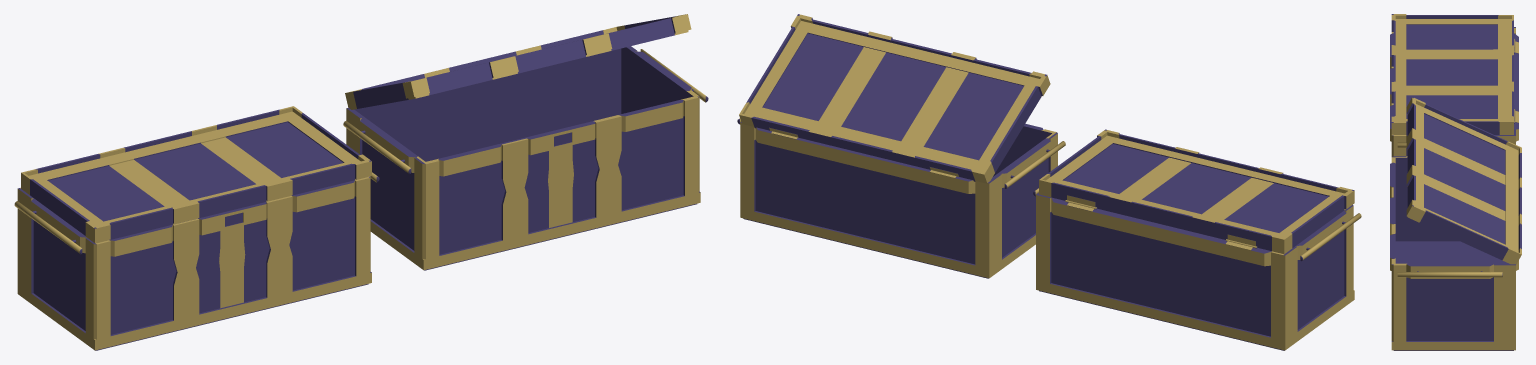
File: chest.fbx
3 views of the same model, side by side, from view 1: azimuth 30°, elevation 25°; view 2: azimuth 150°, elevation 25°; view 3: azimuth 270°, elevation 25° (orthographic). The views are drawn at different scales.
Parts seen in each view (by area): view 1: Chest closed, Chest open; view 2: Chest open, Chest closed; view 3: Chest open, Chest closed.
Part boxes in pixels (<box>): Chest closed: <box>14,106,379,350</box>; Chest open: <box>343,14,708,270</box>; Chest open: <box>737,14,1065,278</box>; Chest closed: <box>1033,129,1361,350</box>; Chest open: <box>1390,97,1521,350</box>; Chest closed: <box>1390,14,1518,156</box>.
Bounding box in the file's own units: 461 × 127 × 104.
